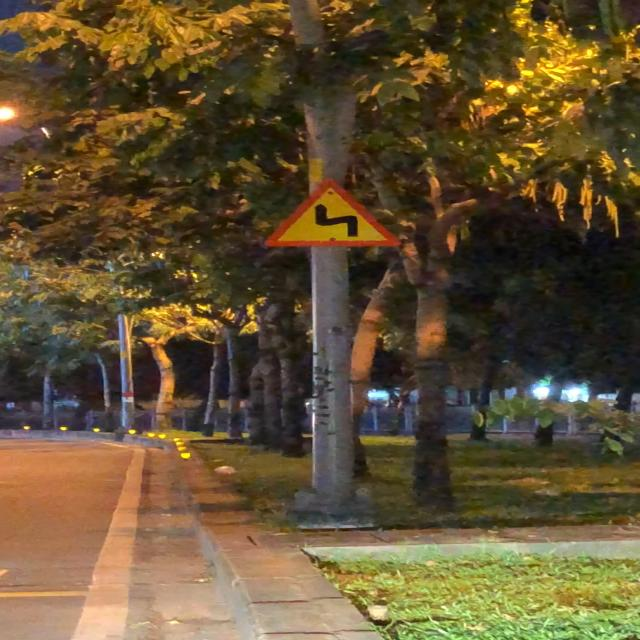Bien bao nhieu cho ngoat nguy hiem lien tiep: (258, 176, 404, 247)
